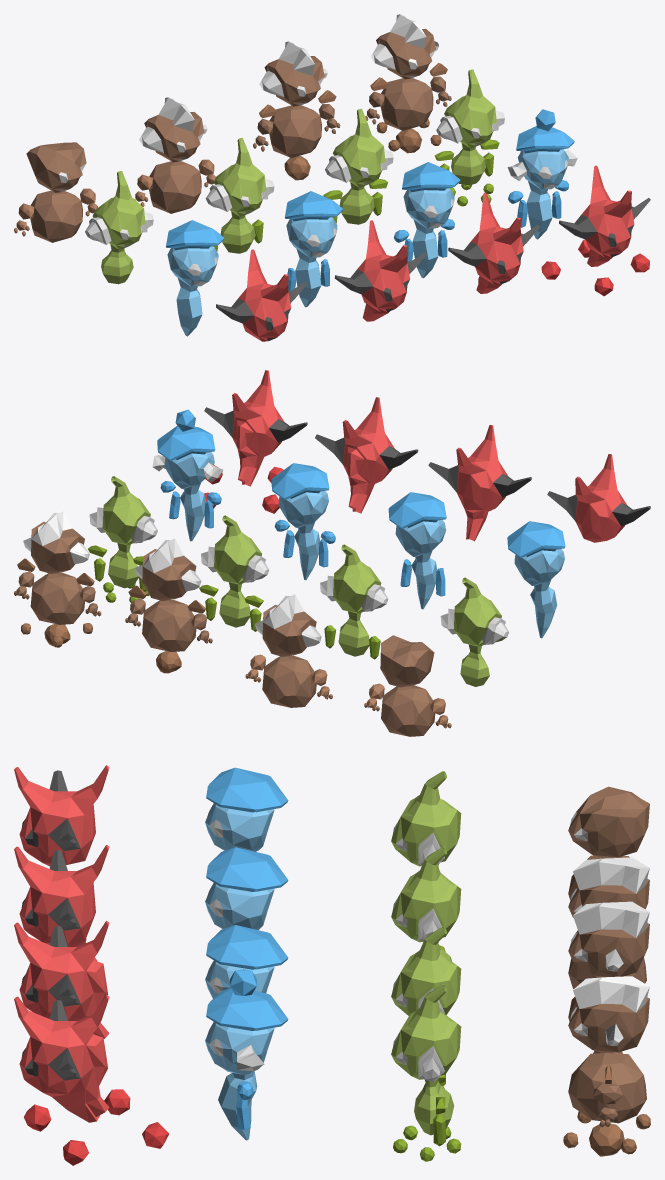
Rendered from characters.fbx.
3 views of the same model, one above another, from view 1: azimuth 30°, elevation 25°; view 2: azimuth 150°, elevation 25°; view 3: azimuth 270°, elevation 25° (orthographic). The views are drawn at different scales.
Visible parts, largest first — view 1: Sphere_3, watter_ch1, head_2, head, head_3, Sphere, Sphere_2, fire_ch2, fire_ch3, fire_ch4, green_ch1, fire_ch1 (+11 smaller); view 2: fire_ch3, fire_ch4, fire_ch2, Sphere_3, watter_ch1, Sphere_2, Sphere, fire_ch1, head, head_2, head_3, green_ch1 (+8 smaller); view 3: fire_ch4, fire_ch3, Sphere_3, fire_ch1, fire_ch2, head_3, head_7, head_6, watter_ch1, Sphere, head_4, head (+12 smaller).
Part boxes in pixels (bbox=[...]): Sphere_3: bbox=[507, 126, 577, 239]; watter_ch1: bbox=[166, 220, 224, 336]; head_2: bbox=[325, 108, 393, 224]; head: bbox=[205, 138, 274, 253]; head_3: bbox=[436, 69, 504, 185]; Sphere: bbox=[285, 191, 343, 307]; Sphere_2: bbox=[402, 162, 460, 278]; fire_ch2: bbox=[334, 220, 426, 321]; fire_ch3: bbox=[448, 192, 539, 293]; fire_ch4: bbox=[559, 165, 650, 266]; green_ch1: bbox=[85, 171, 153, 284]; fire_ch1: bbox=[216, 249, 307, 341]; fire_ch3: bbox=[315, 397, 418, 513]; fire_ch4: bbox=[204, 370, 307, 486]; fire_ch2: bbox=[428, 425, 531, 541]; Sphere_3: bbox=[152, 425, 223, 541]; watter_ch1: bbox=[507, 521, 565, 638]; Sphere_2: bbox=[271, 463, 329, 580]; Sphere: bbox=[388, 492, 446, 609]; fire_ch1: bbox=[547, 454, 650, 542]; head: bbox=[320, 544, 388, 656]; head_2: bbox=[201, 515, 269, 627]; head_3: bbox=[89, 476, 157, 588]; green_ch1: bbox=[440, 577, 508, 686]; fire_ch4: bbox=[14, 995, 109, 1122]; fire_ch3: bbox=[14, 921, 109, 1038]; Sphere_3: bbox=[205, 988, 288, 1140]; fire_ch1: bbox=[14, 765, 109, 866]; fire_ch2: bbox=[14, 845, 109, 961]; head_3: bbox=[391, 984, 461, 1135]; head_7: bbox=[568, 976, 649, 1052]; head_6: bbox=[568, 901, 649, 977]; watter_ch1: bbox=[205, 767, 288, 851]; Sphere: bbox=[205, 847, 288, 930]; head_4: bbox=[568, 786, 649, 857]; head: bbox=[391, 847, 461, 961].
Bounding box in the file's own units: 1442 × 432 × 1314.
Materials: 1 (1 with a texture image).
